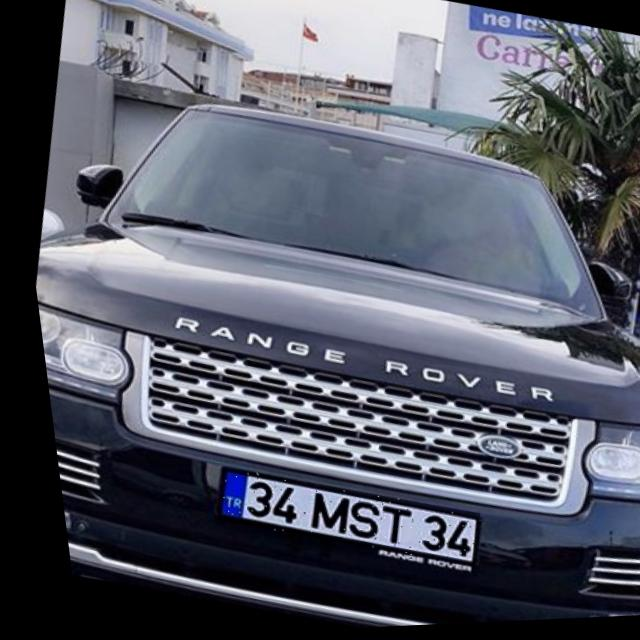license_plate: (197, 459, 471, 578)
